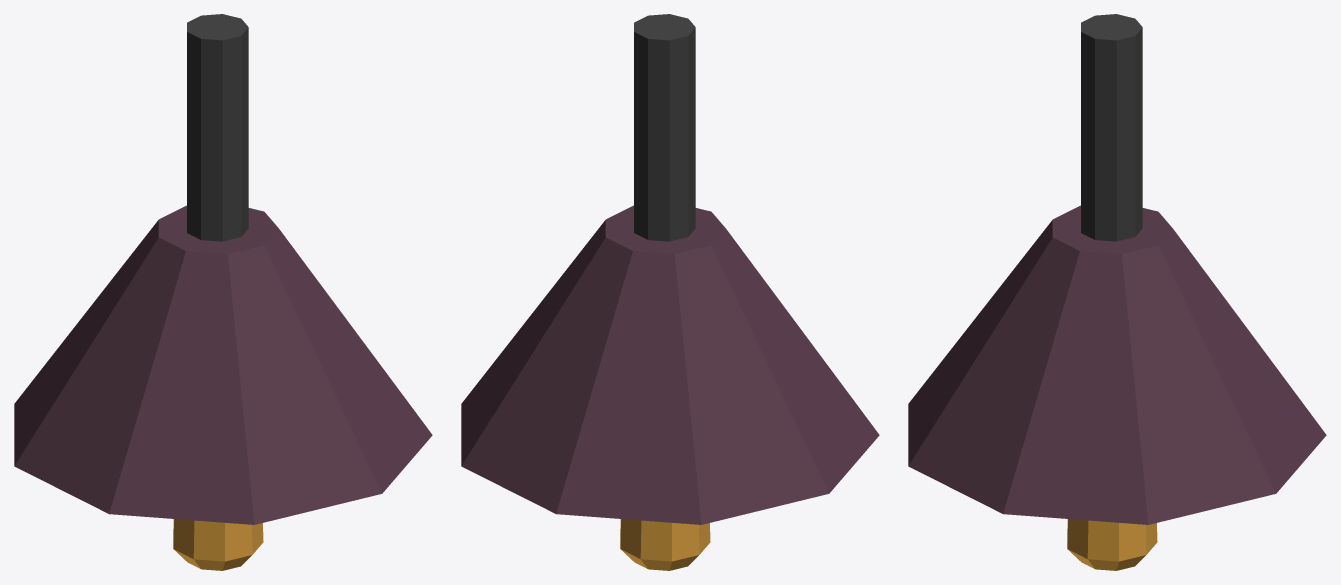
Rendered from Lanba.fbx.
3 renders of one model, left to right at view 1: azimuth 30°, elevation 25°; view 2: azimuth 150°, elevation 25°; view 3: azimuth 270°, elevation 25°, orthographic.
Parts seen in each view (by area): view 1: Cone; view 2: Cone; view 3: Cone.
Boxes of the visible parts, left/top/right/bottom form: Cone: left=14, top=14, right=432, bottom=570; Cone: left=461, top=14, right=879, bottom=570; Cone: left=908, top=14, right=1326, bottom=570.
Size of the model in its own units: 412 by 567 by 405.
